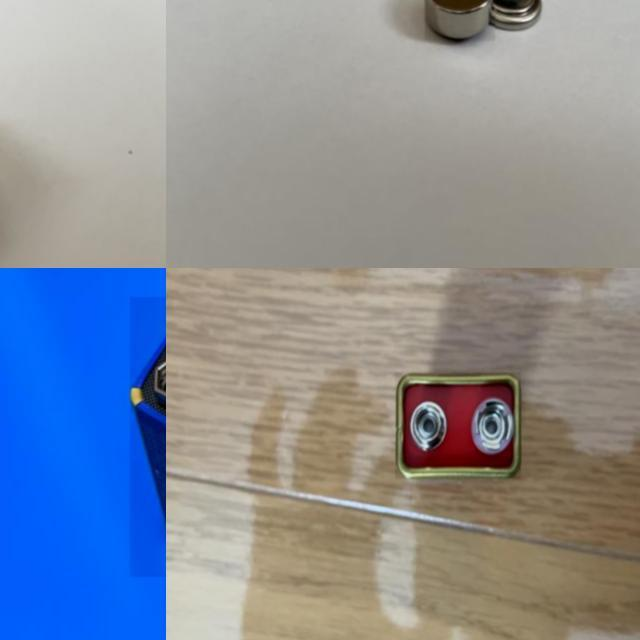9V: (395, 372, 522, 479), (130, 296, 166, 577)
